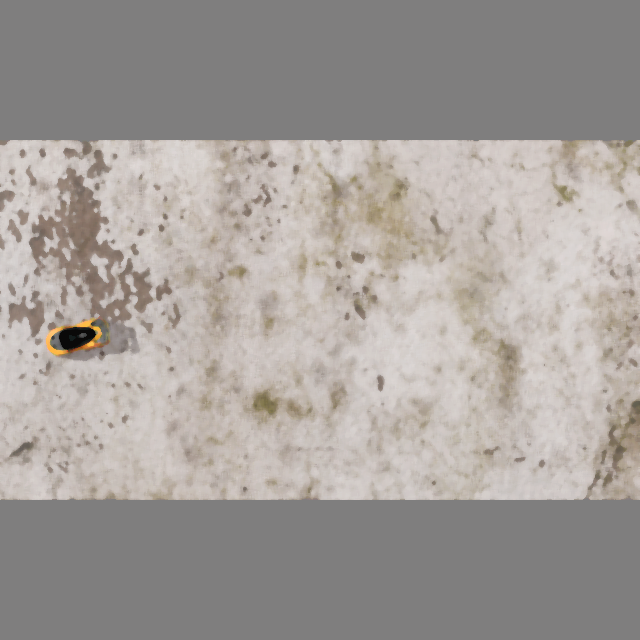car: (36, 315, 115, 360)
